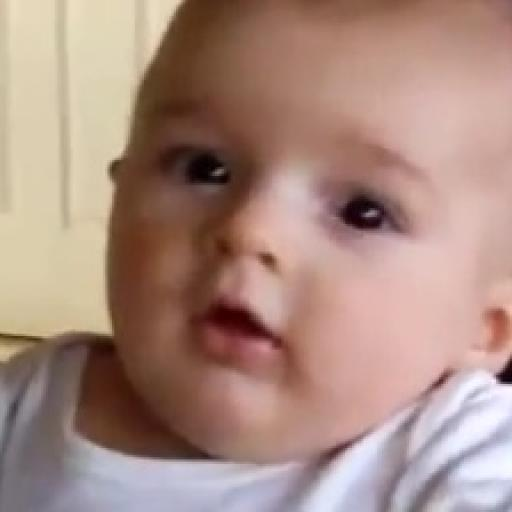Autism: (151, 10, 502, 464)
